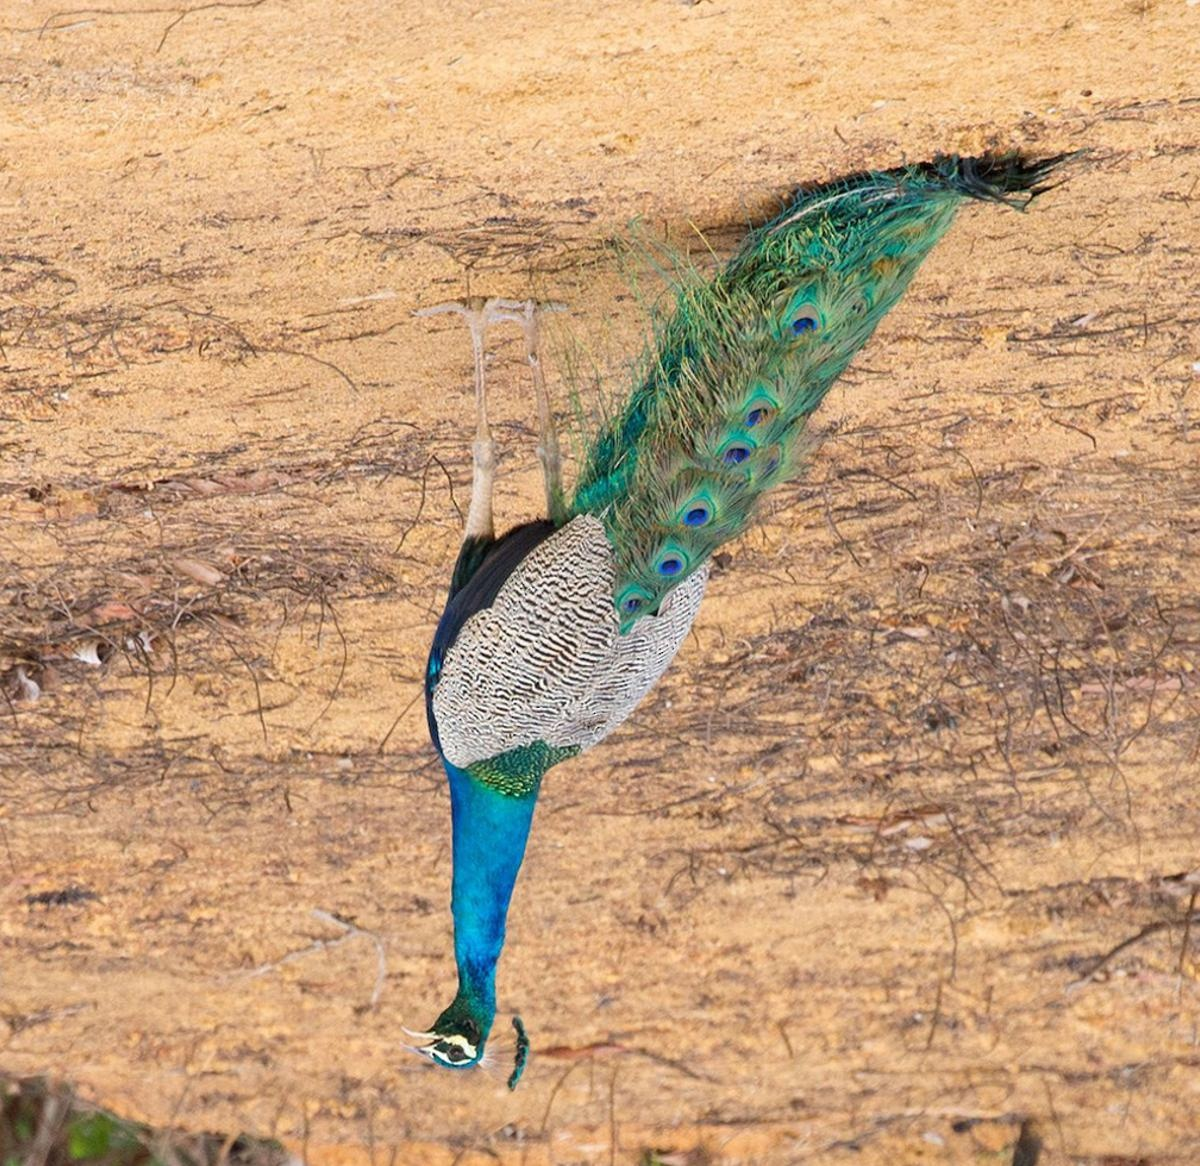peacock: (397, 92, 1115, 1124)
